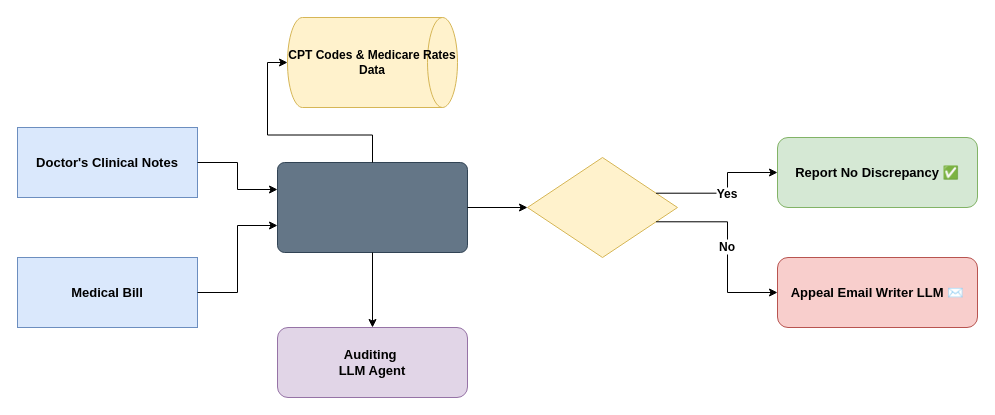
The diagram is 995 pixels wide and 415 high, and some of its shapes have lost their labels. The shapes that lost their labels are listed below. From the top down, each one's centre as x and y in pixels, then its label:
At pixel 372 207: "ClaimShield Application".
At pixel 602 207: "Is Valid?".
